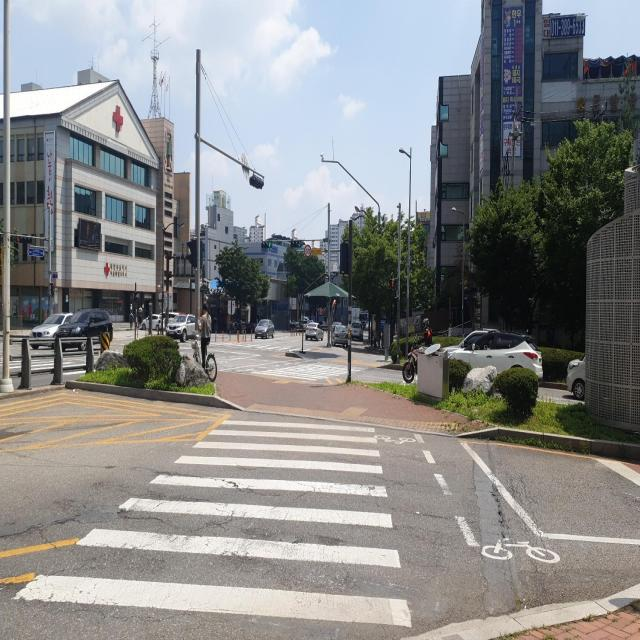횡단보도: (11, 418, 415, 632), (257, 364, 363, 384)
